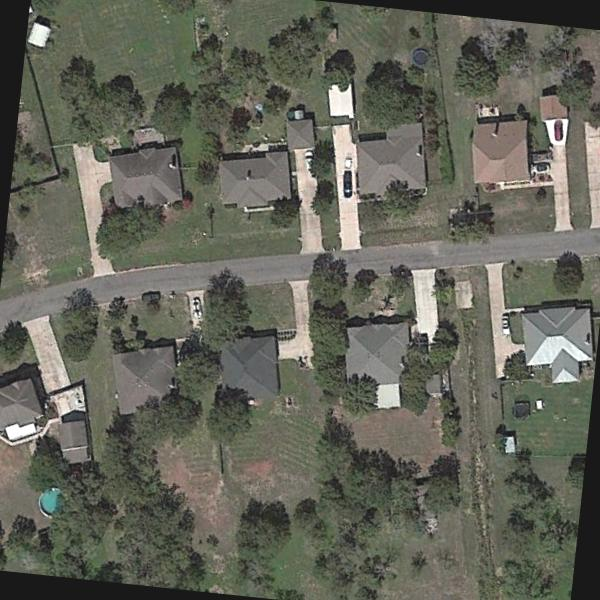Buildings: (468, 95, 534, 176), (350, 124, 422, 198), (98, 340, 178, 406), (515, 306, 589, 373), (220, 328, 286, 394), (106, 148, 190, 198), (343, 320, 413, 378), (0, 382, 59, 436), (220, 153, 278, 206)
